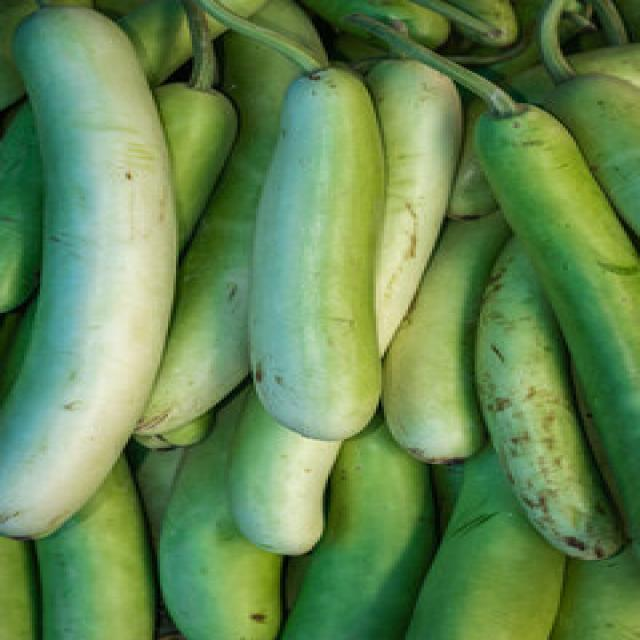Bottle Gourd: (23, 7, 155, 512), (242, 62, 386, 439), (476, 105, 640, 433), (403, 444, 576, 640), (149, 428, 291, 640), (12, 471, 152, 639)
